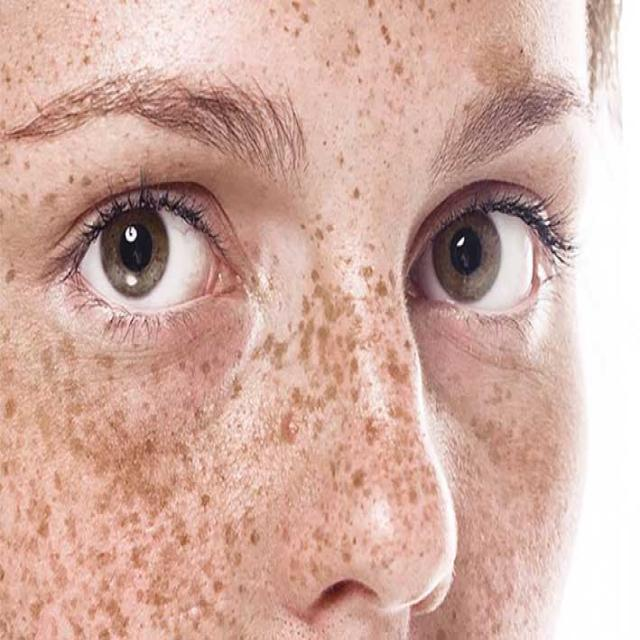Dark-Spots: (0, 312, 571, 640), (0, 0, 561, 85), (0, 92, 95, 300), (248, 207, 406, 307)
